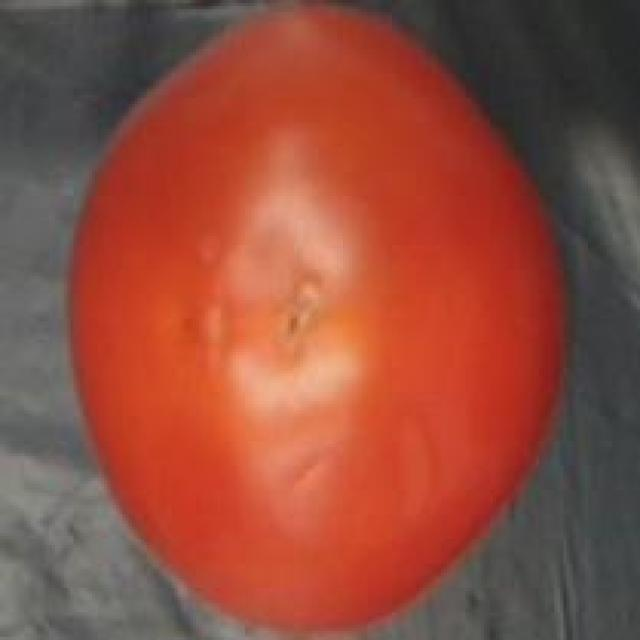ripe tomato: (64, 0, 576, 640)
